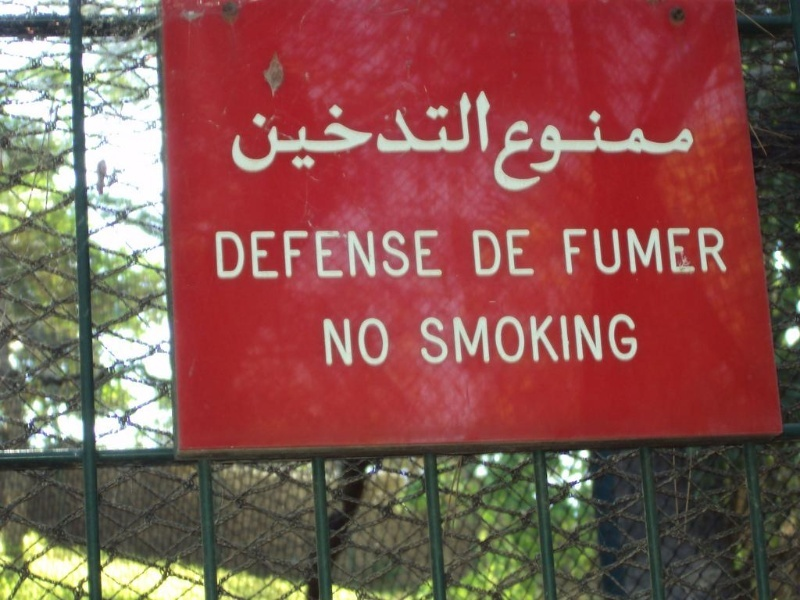text: (241, 90, 256, 176), (257, 90, 272, 176), (273, 90, 288, 176), (289, 90, 304, 176), (305, 90, 320, 176), (321, 90, 336, 176), (337, 90, 352, 176), (353, 90, 368, 176), (369, 90, 384, 176), (385, 90, 400, 176), (401, 90, 416, 176), (417, 90, 432, 176), (433, 90, 448, 176), (449, 90, 464, 176), (465, 90, 480, 176), (497, 108, 512, 191), (513, 108, 528, 191), (529, 108, 544, 191), (545, 108, 560, 191), (561, 108, 576, 191), (577, 108, 592, 191), (593, 108, 608, 191), (609, 108, 624, 191), (625, 108, 640, 191), (641, 108, 656, 191), (657, 108, 672, 191), (673, 108, 688, 191), (625, 312, 641, 366), (481, 90, 491, 176), (225, 229, 240, 283), (241, 229, 256, 283), (257, 229, 272, 283), (273, 229, 288, 283), (289, 229, 304, 283), (305, 229, 320, 283), (321, 229, 336, 283), (337, 229, 352, 283), (353, 229, 368, 283), (369, 229, 384, 283), (385, 229, 400, 283), (401, 229, 416, 283), (417, 229, 432, 283), (433, 312, 448, 366), (449, 312, 464, 366), (465, 312, 480, 366), (481, 312, 496, 366), (497, 312, 512, 366), (513, 312, 528, 366), (529, 312, 544, 366), (545, 312, 560, 366), (561, 312, 576, 366), (577, 312, 592, 366), (593, 312, 608, 366), (609, 312, 624, 366), (337, 315, 352, 368), (353, 315, 368, 368), (369, 315, 384, 368), (481, 228, 496, 280), (497, 228, 512, 280), (513, 228, 528, 280), (418, 312, 432, 366), (577, 226, 592, 276), (593, 226, 608, 276), (609, 226, 624, 276), (625, 226, 640, 276), (641, 226, 656, 276), (657, 226, 672, 276), (673, 226, 688, 276), (689, 226, 704, 276), (705, 226, 720, 276), (323, 315, 336, 368), (563, 226, 576, 276), (233, 90, 240, 176), (433, 229, 444, 283), (689, 108, 695, 191), (215, 229, 224, 283), (472, 228, 480, 280), (721, 226, 729, 276), (385, 315, 392, 368), (529, 228, 536, 280), (493, 108, 496, 191)
